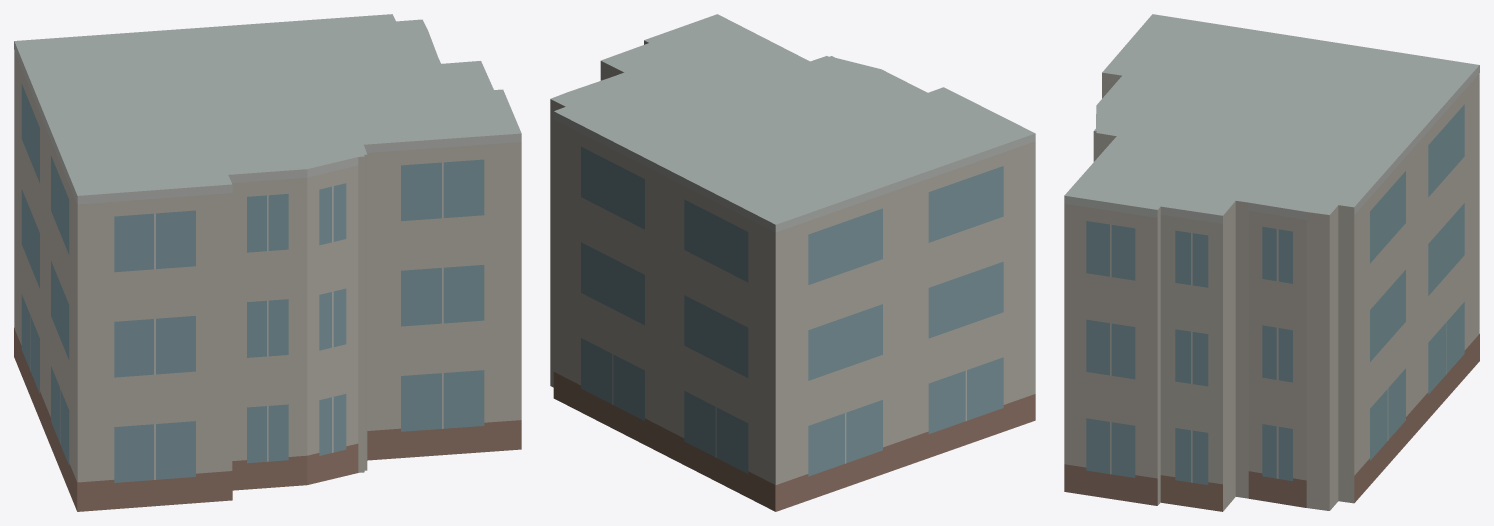
File: survey-upis-32999208.glb
3 views of the same model, side by side, from view 1: azimuth 30°, elevation 25°; view 2: azimuth 150°, elevation 25°; view 3: azimuth 270°, elevation 25° (orthographic). The views are drawn at different scales.
Visible parts, largest first — view 1: survey-upis-32999208.tmp; view 2: survey-upis-32999208.tmp; view 3: survey-upis-32999208.tmp.
Part boxes in pixels (bbox=[...]): survey-upis-32999208.tmp: bbox=[14, 14, 521, 511]; survey-upis-32999208.tmp: bbox=[550, 14, 1035, 511]; survey-upis-32999208.tmp: bbox=[1064, 14, 1479, 511].
Bounding box in the file's own units: 13.31 × 9.1 × 11.58.
